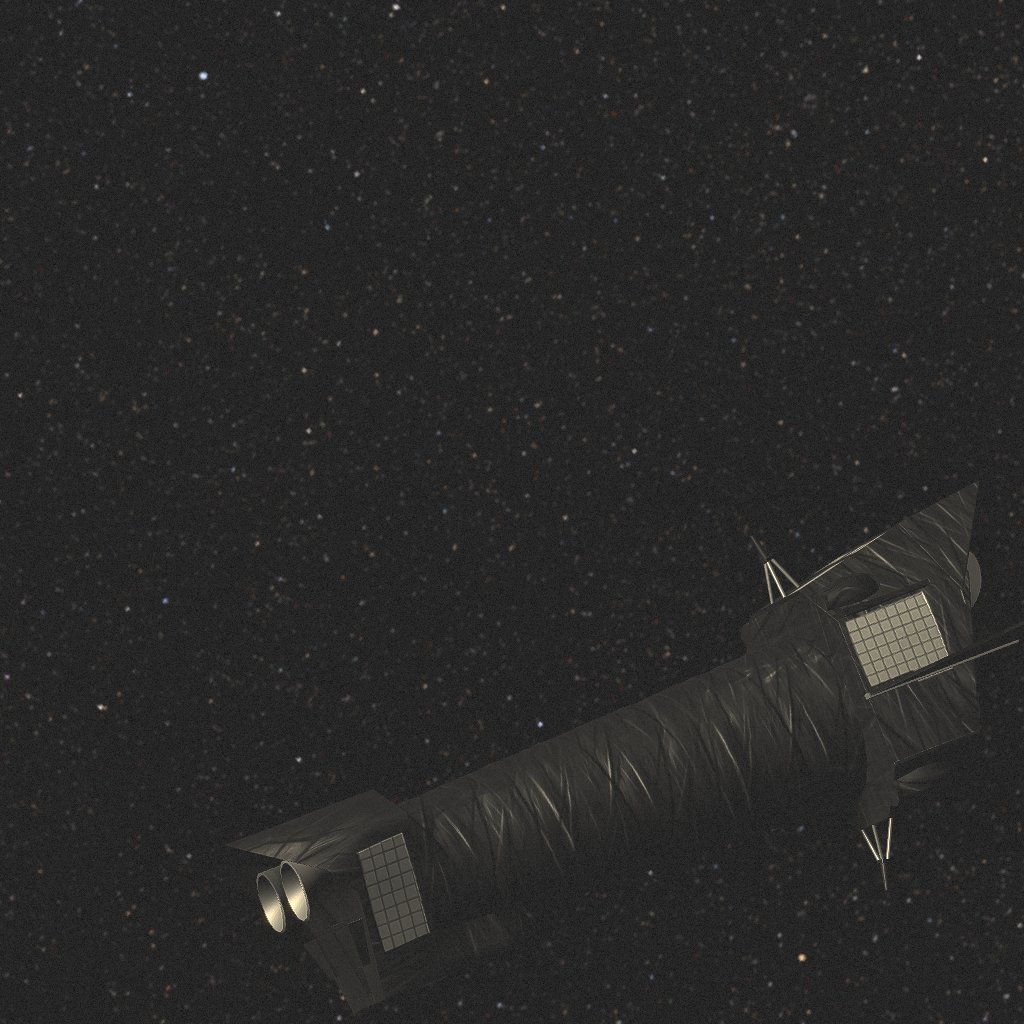xmm_newton: (193, 480, 1024, 1013)
